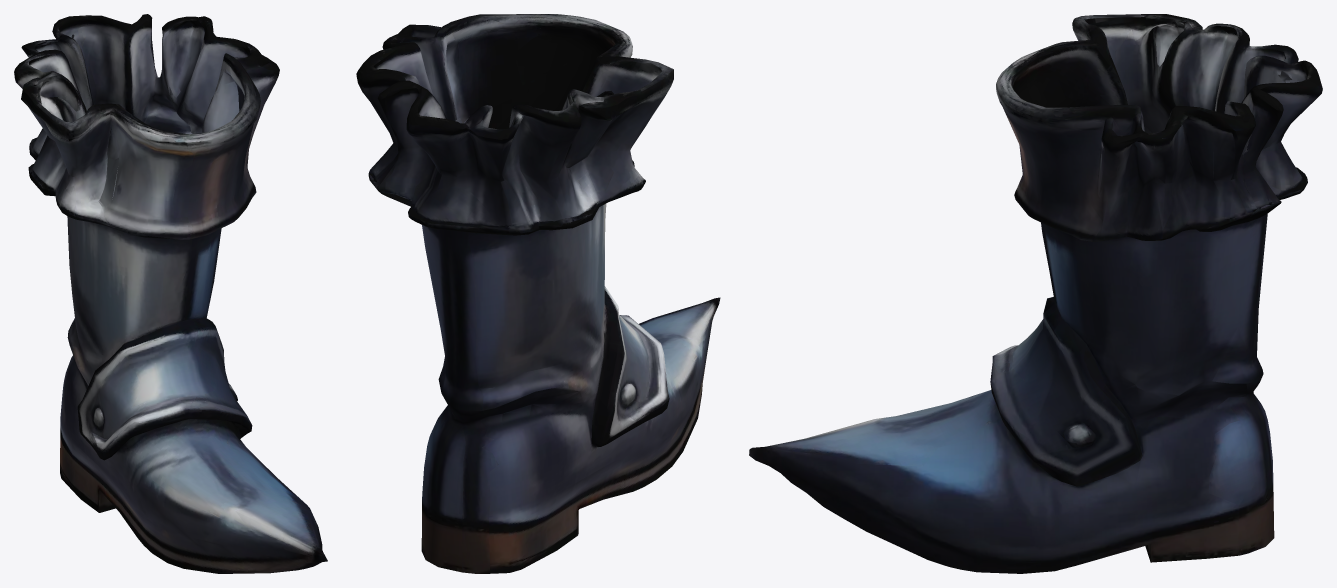
Rendered from guard_boots.glb.
3 views of the same model, side by side, from view 1: azimuth 30°, elevation 25°; view 2: azimuth 150°, elevation 25°; view 3: azimuth 270°, elevation 25° (orthographic). The views are drawn at different scales.
Visible parts, largest first — view 1: world; view 2: world; view 3: world.
Boxes of the visible parts, x1,y1,x2,y2 form: world: [14, 14, 327, 573]; world: [356, 14, 720, 573]; world: [749, 14, 1322, 573].
Size of the model in its own units: 0.21 by 0.3735 by 0.4108.
1 material, 1 textured.
